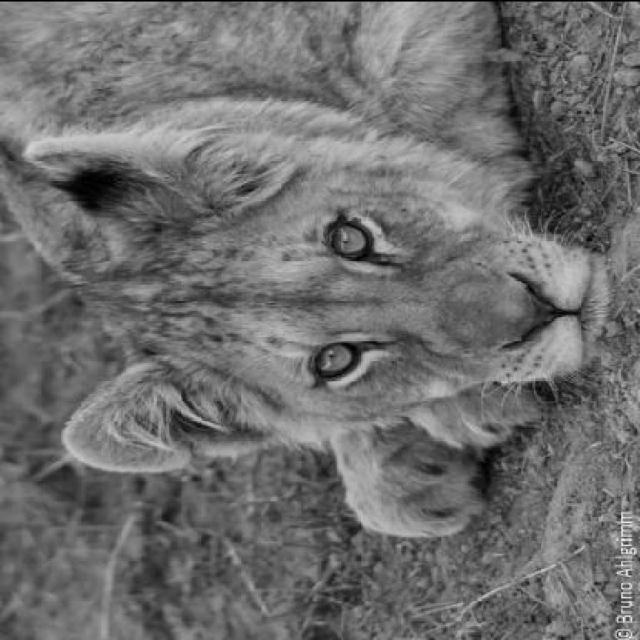Lion: (6, 2, 639, 549)
